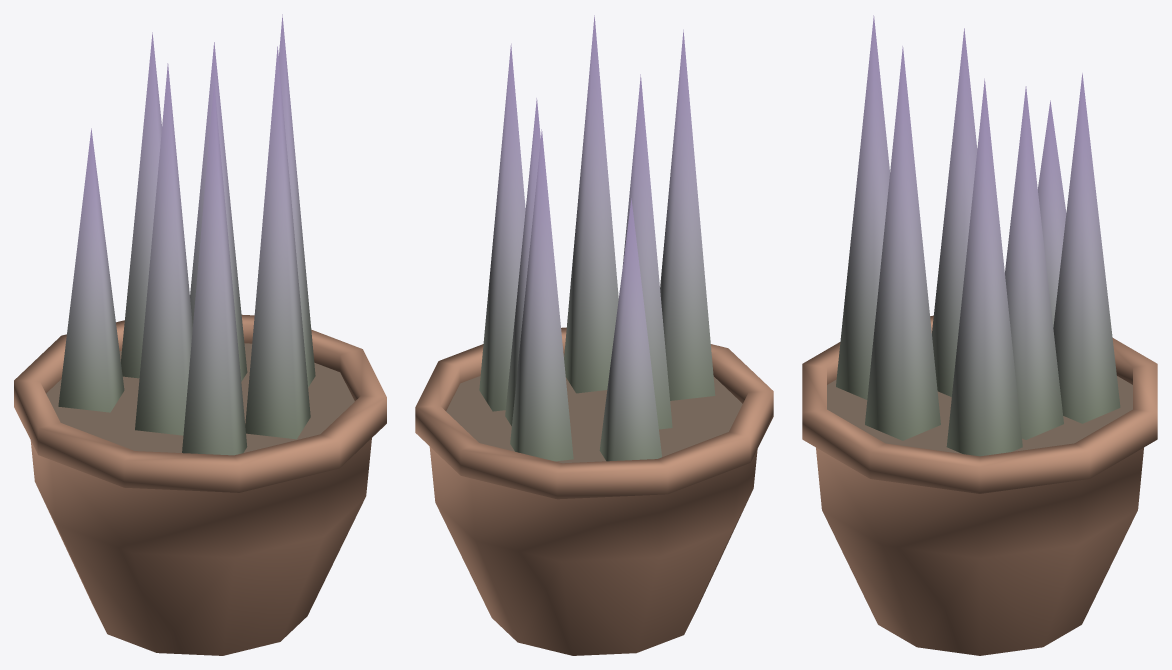
The model's file is SM_BM_BP_PotLavender.glb.
3 views of the same model, side by side, from view 1: azimuth 30°, elevation 25°; view 2: azimuth 150°, elevation 25°; view 3: azimuth 270°, elevation 25° (orthographic). The views are drawn at different scales.
Parts seen in each view (by area): view 1: SM_BM_BP_PotLavender; view 2: SM_BM_BP_PotLavender; view 3: SM_BM_BP_PotLavender.
Boxes of the visible parts, left/top/right/bottom form: SM_BM_BP_PotLavender: left=14, top=14, right=386, bottom=655; SM_BM_BP_PotLavender: left=415, top=15, right=773, bottom=655; SM_BM_BP_PotLavender: left=802, top=15, right=1157, bottom=655.
Size of the model in its own units: 0.5184 by 0.8941 by 0.493.
